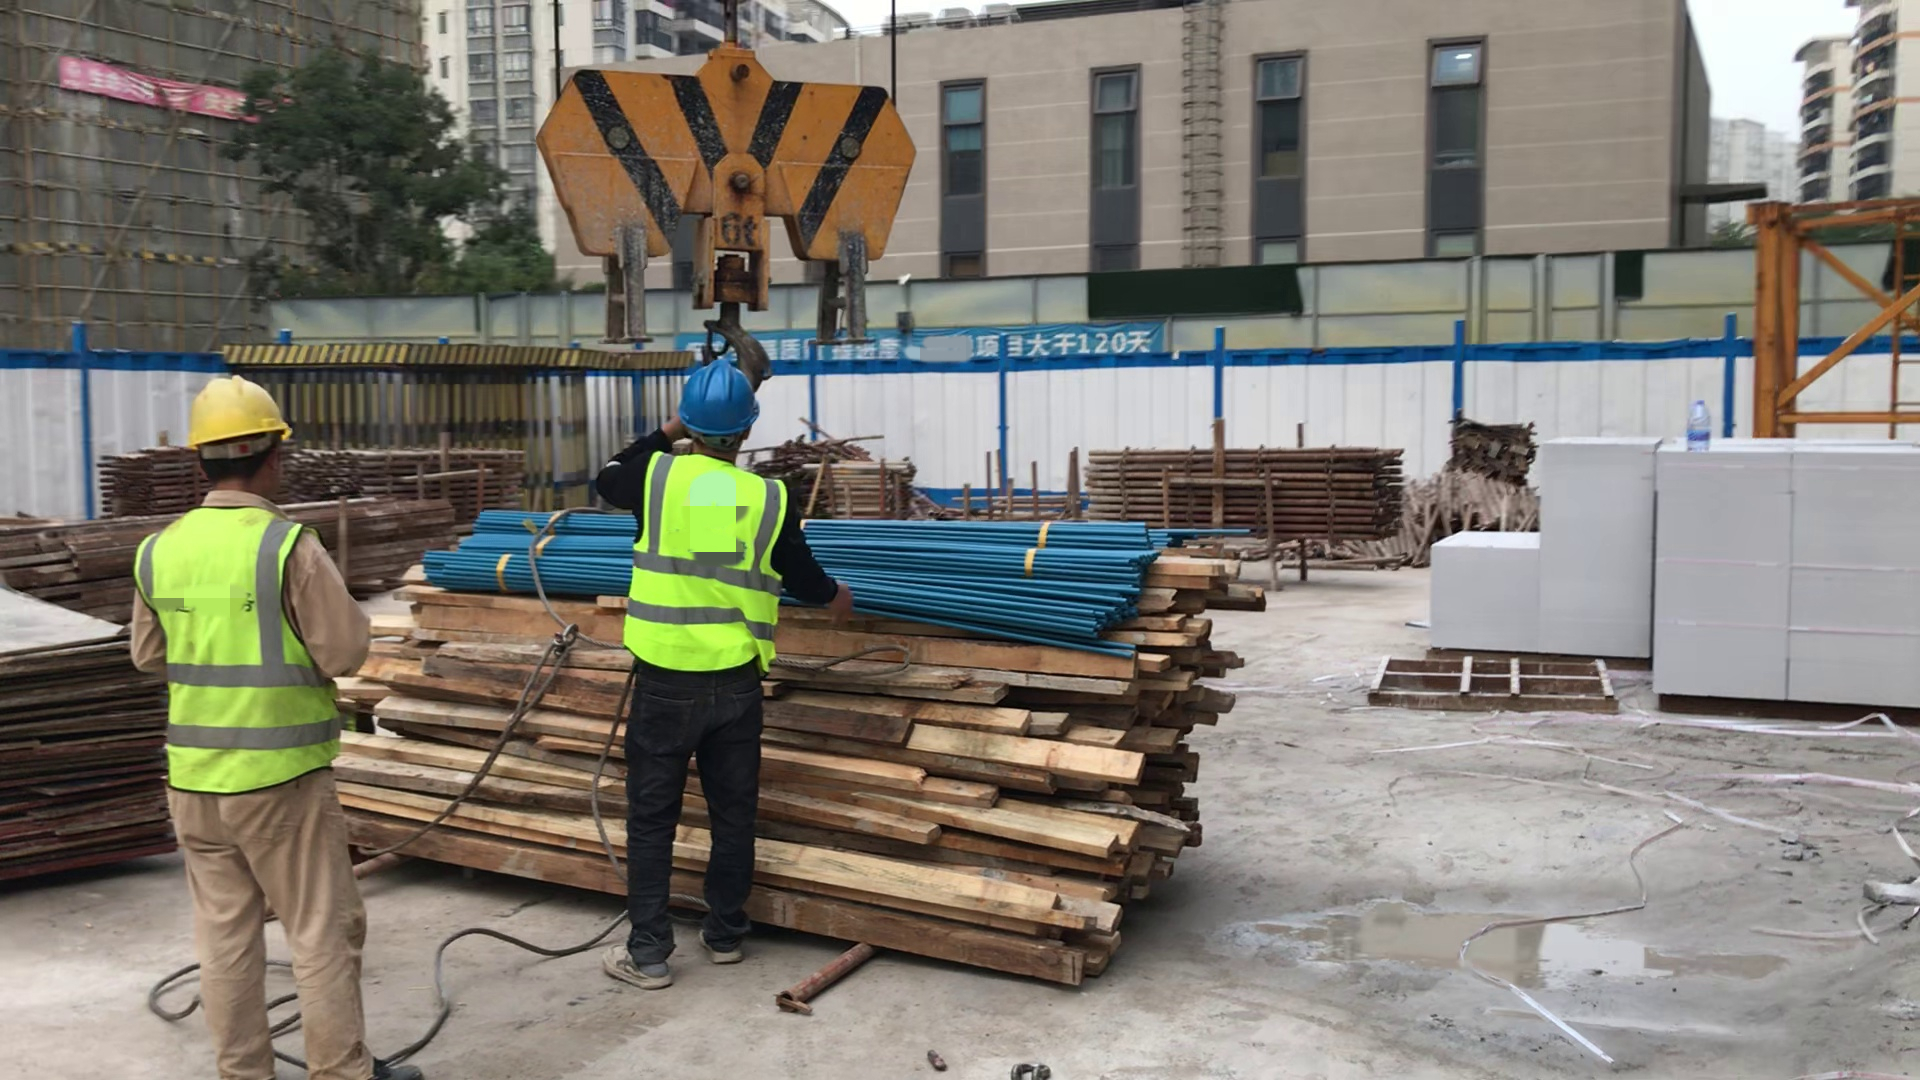board: (1, 564, 170, 873)
brick: (1658, 417, 1920, 717), (1433, 419, 1673, 656)
helmet: (184, 369, 293, 443), (677, 350, 758, 430)
hook: (521, 60, 930, 324)
person: (126, 367, 374, 1080), (592, 356, 844, 1012)
scaffold: (91, 420, 526, 532), (1059, 428, 1404, 541), (778, 439, 915, 531)
slogan: (55, 60, 279, 116), (674, 335, 911, 357)
vest: (145, 502, 334, 778), (632, 448, 778, 671)
wood: (318, 597, 1262, 1016)
